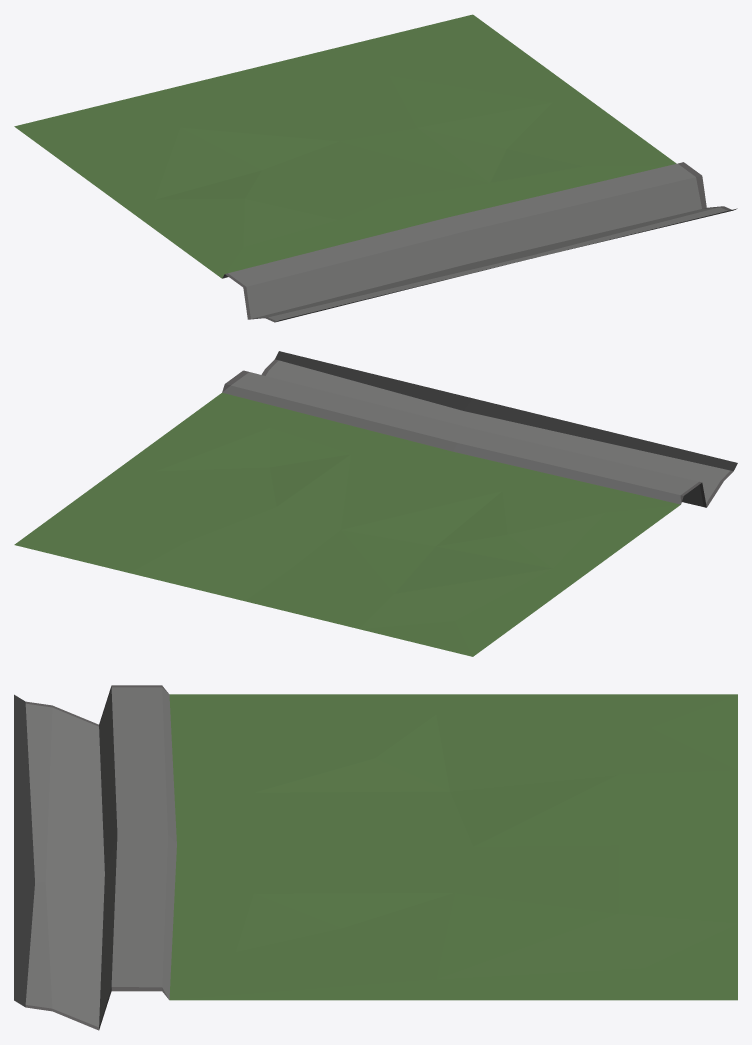
The model's file is SM_Env_Sidewalk_Straight_03.fbx.
3 views of the same model, one above another, from view 1: azimuth 30°, elevation 25°; view 2: azimuth 150°, elevation 25°; view 3: azimuth 270°, elevation 25° (orthographic). The views are drawn at different scales.
Visible parts, largest first — view 1: SM_Env_Sidewalk_Straight_03; view 2: SM_Env_Sidewalk_Straight_03; view 3: SM_Env_Sidewalk_Straight_03.
Boxes of the visible parts, left/top/right/bottom form: SM_Env_Sidewalk_Straight_03: left=14, top=14, right=737, bottom=322; SM_Env_Sidewalk_Straight_03: left=14, top=351, right=737, bottom=656; SM_Env_Sidewalk_Straight_03: left=14, top=685, right=737, bottom=1030.
Bounding box in the file's own units: 500 × 30 × 500.
